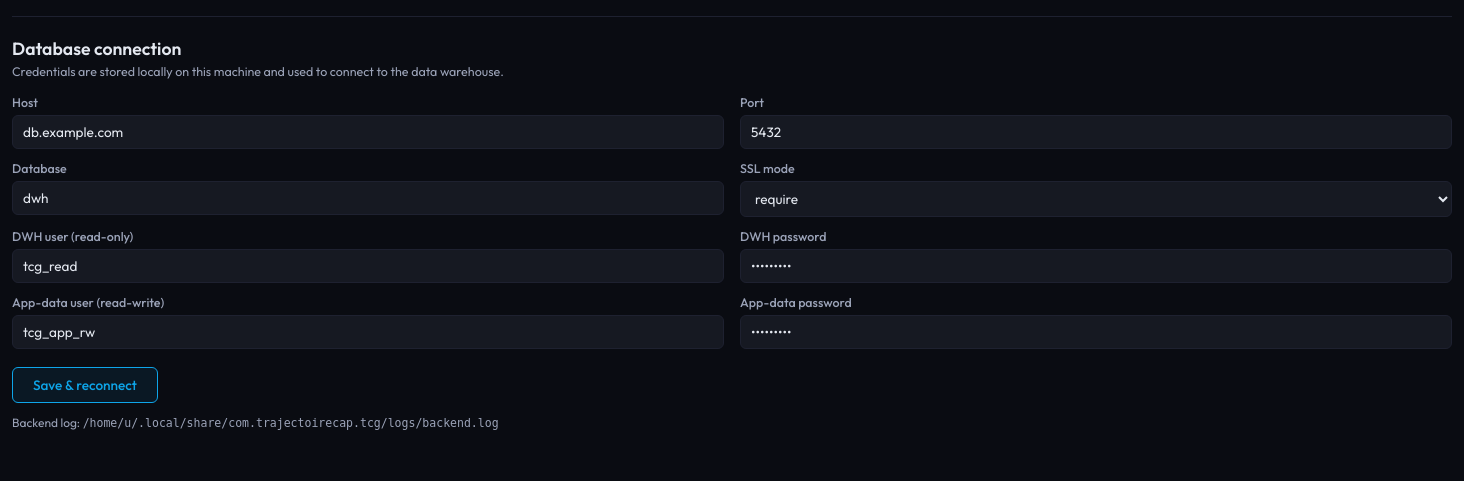
Scenario: <DatabaseSettings> › renders the antivirus/spawn hint when save fails with an os-error message
The width and height of the screenshot is (1464, 481).
Check: the field showing "db.example.com" is shown, box [12,115,724,149]
Click the button with test id "db-save-btn". click: (85, 385)
box: [12,367,158,403]
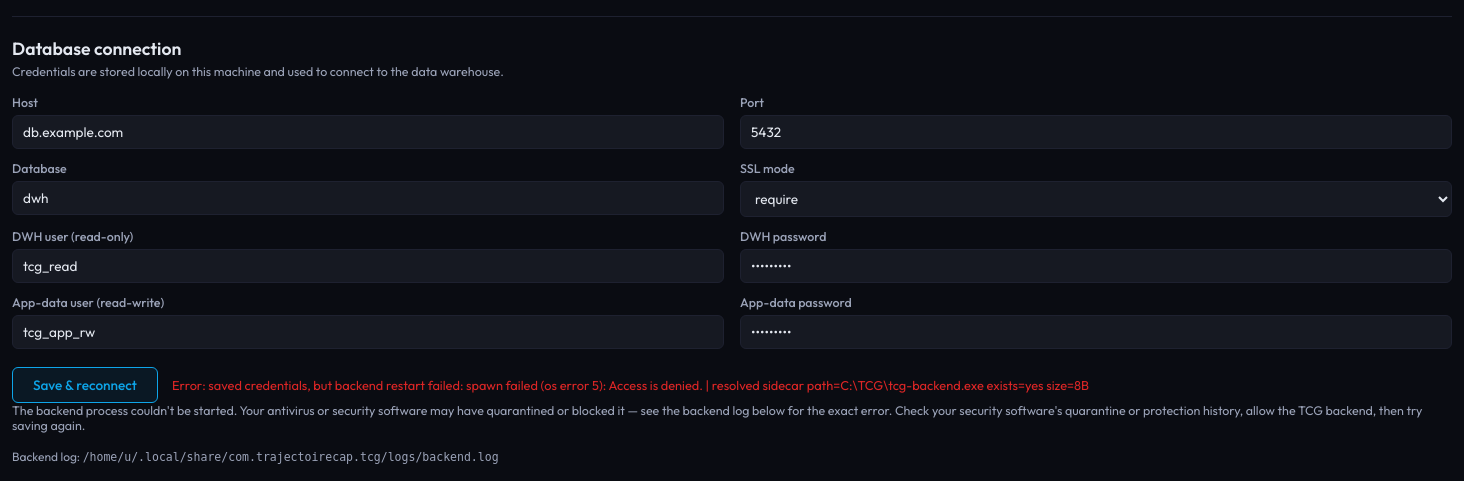
Check: the text with test id "db-spawn-hint" is shown, box [12,403,1452,433]
Check: the message with test id "db-status" shows "os error 5", box [172,377,1089,393]
Check: the text with test id "db-spawn-hint" shows "antivirus", box [12,403,625,418]
